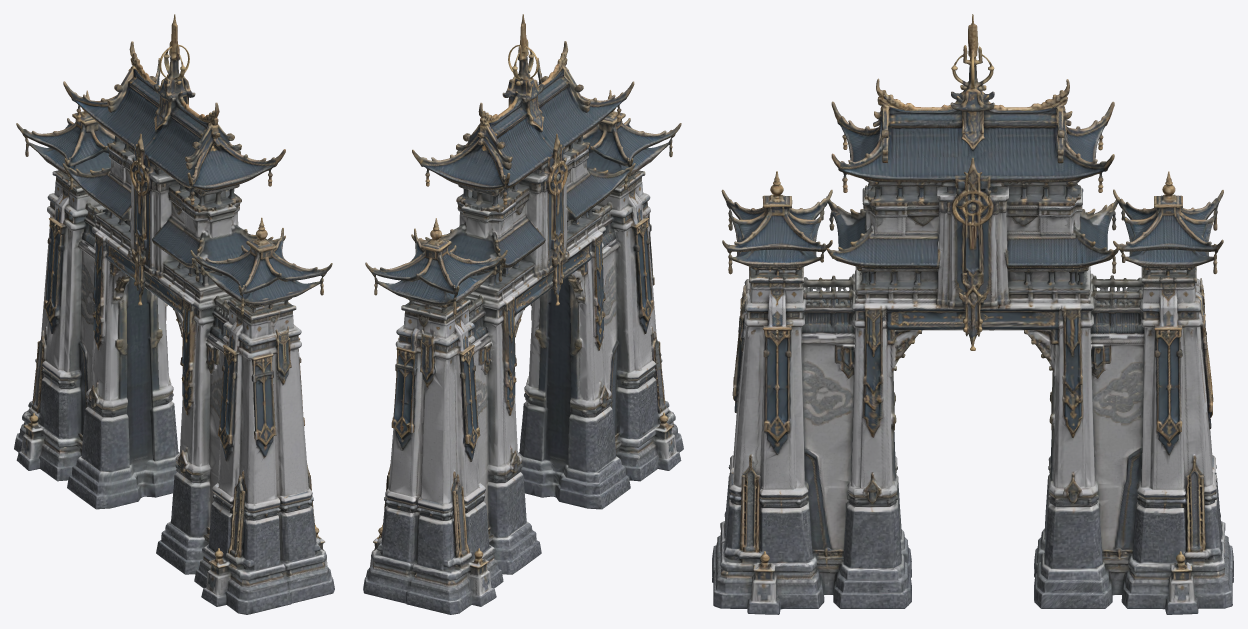
3 renders of one model, left to right at view 1: azimuth 30°, elevation 25°; view 2: azimuth 150°, elevation 25°; view 3: azimuth 270°, elevation 25°, orthographic. The views are drawn at different scales.
Parts seen in each view (by area): view 1: tripo_node_de42e718-2308-401a-99ea-1ceacb56e039; view 2: tripo_node_de42e718-2308-401a-99ea-1ceacb56e039; view 3: tripo_node_de42e718-2308-401a-99ea-1ceacb56e039.
Boxes of the visible parts, x1,y1,x2,y2 form: tripo_node_de42e718-2308-401a-99ea-1ceacb56e039: (14, 14, 334, 614); tripo_node_de42e718-2308-401a-99ea-1ceacb56e039: (363, 14, 683, 614); tripo_node_de42e718-2308-401a-99ea-1ceacb56e039: (712, 14, 1233, 614).
Bounding box in the file's own units: 0.2473 × 1 × 0.8317.
1 material, 1 textured.
